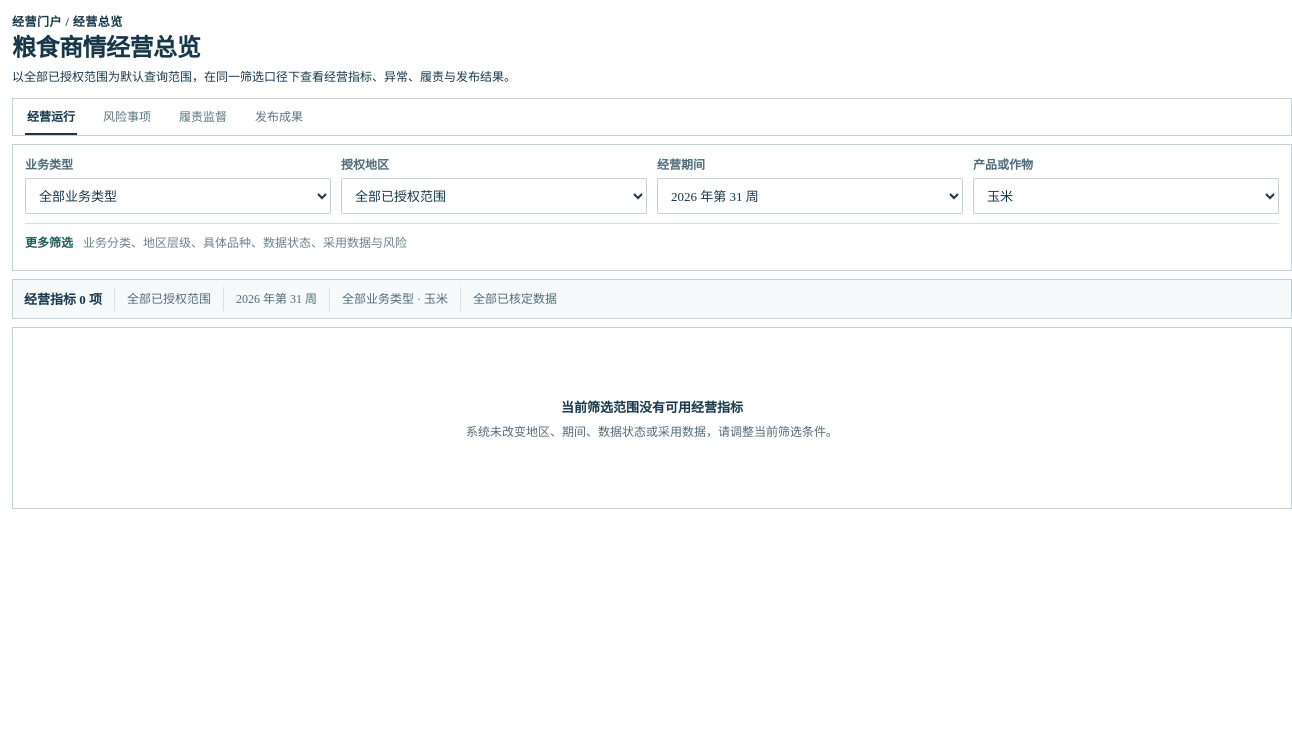
enterprise portal workspaces › keeps cultivars cascaded to the selected product and explains every cleared mismatch
Click the text "更多筛选" at (49, 242), box [25, 233, 73, 251]
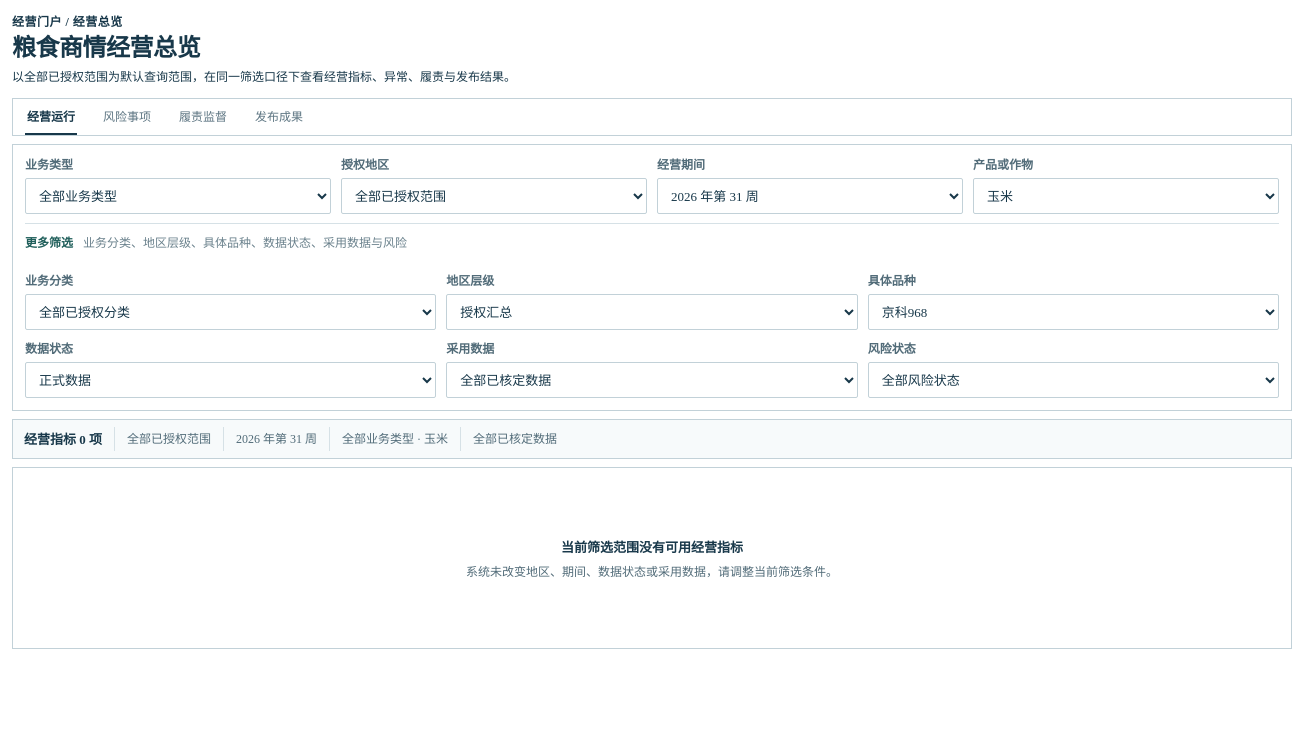
Select "大豆" in the dropdown labelled "产品或作物" at (1126, 196), box [973, 178, 1279, 214]
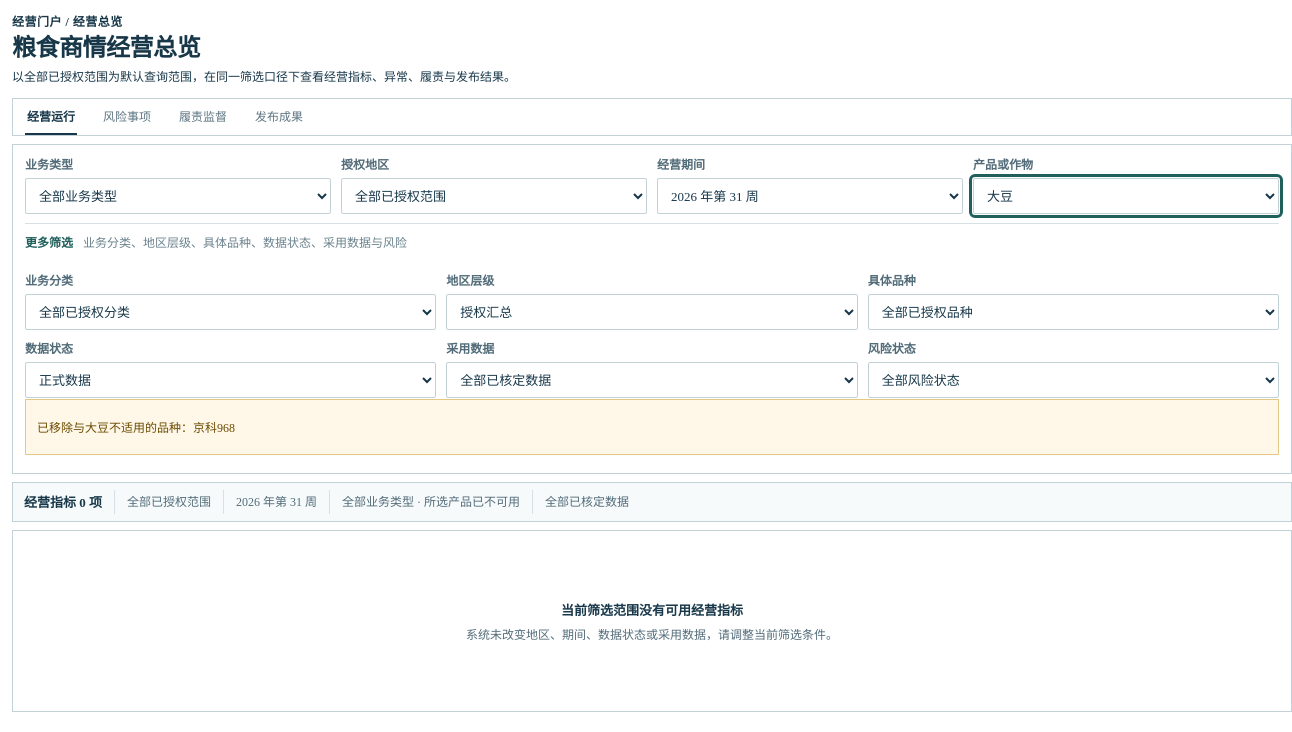
Result: the dropdown labelled "具体品种" shows "全部已授权品种" at [868, 294, 1279, 330]
Result: the message "已移除与大豆不适用的品种：京科968" is shown at [25, 399, 1279, 455]
